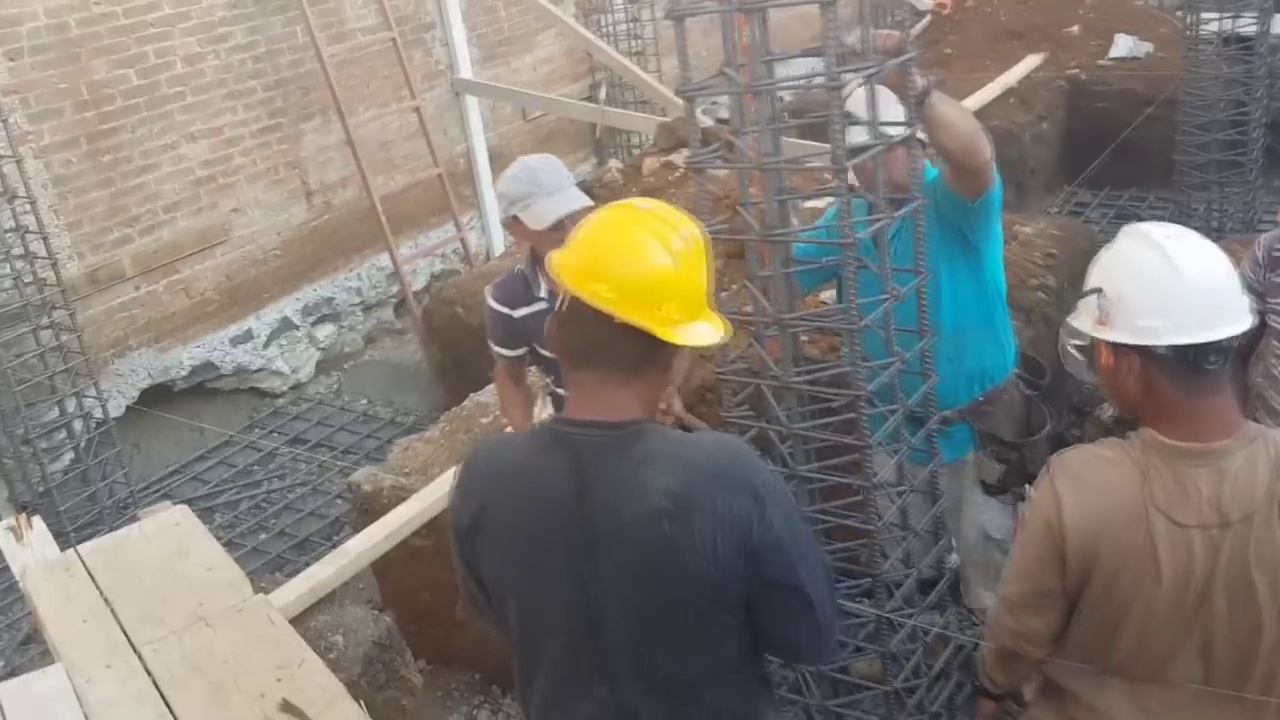helmet: (546, 202, 736, 353), (1079, 223, 1262, 377)
helmet-off: (489, 149, 592, 272), (841, 80, 934, 205)
helmet-on: (1072, 212, 1271, 454), (539, 201, 721, 424)
person: (435, 173, 832, 720), (977, 195, 1280, 720), (784, 28, 1016, 661), (442, 151, 592, 424)
